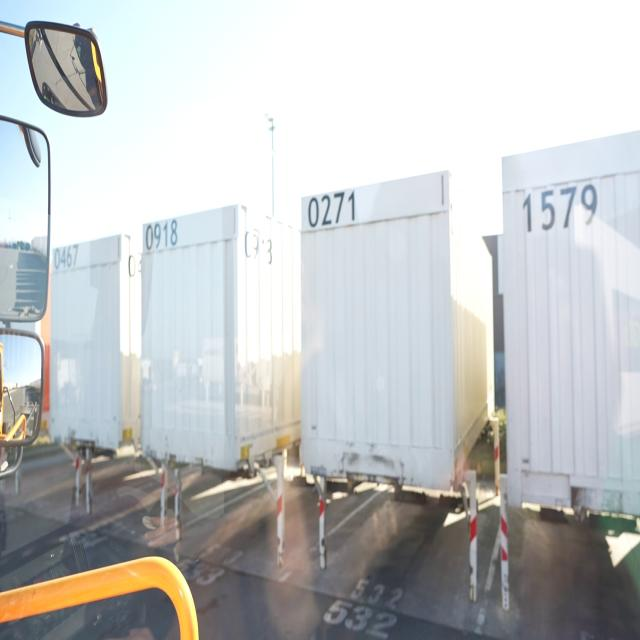Code: (517, 180, 609, 252), (303, 183, 360, 240), (147, 210, 180, 254), (51, 240, 82, 273)
